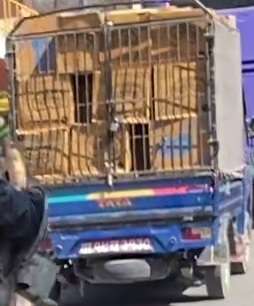license_plate: (80, 238, 150, 254)
